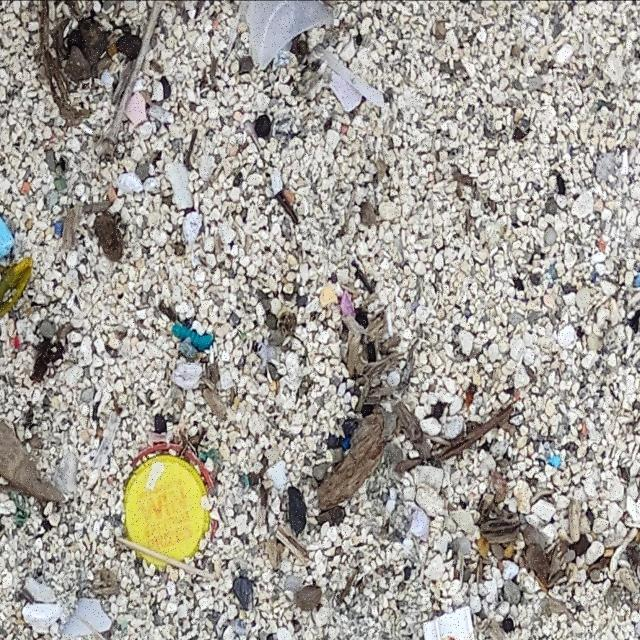plastic_waste: (123, 454, 211, 574)
